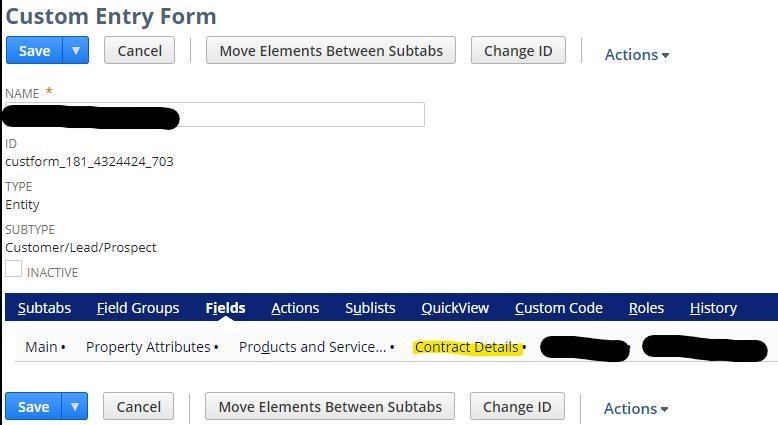button: (206, 392, 455, 420), (206, 36, 457, 63), (471, 36, 568, 66), (470, 392, 565, 421), (104, 36, 177, 65), (106, 392, 174, 421)
checkbox: (7, 261, 24, 280)
dropdown: (6, 393, 89, 422), (7, 37, 89, 65)
input: (5, 102, 425, 129)
label: (4, 4, 228, 33), (3, 223, 62, 237), (27, 266, 84, 280), (4, 88, 56, 102), (2, 181, 35, 197), (4, 136, 25, 155)
